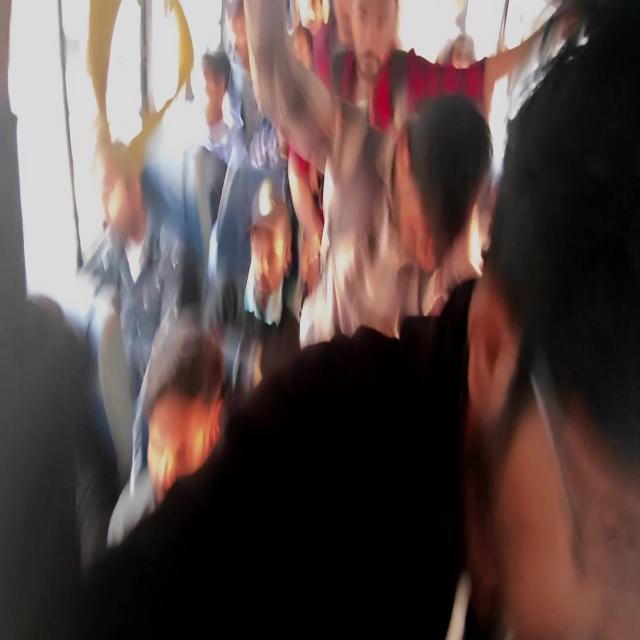person: (524, 63, 640, 603), (8, 228, 106, 459), (390, 116, 494, 235), (141, 351, 207, 520), (228, 191, 292, 295), (91, 152, 148, 252), (450, 28, 497, 122), (353, 4, 404, 66), (226, 5, 266, 78), (329, 0, 370, 65), (287, 33, 324, 96), (207, 53, 236, 132)
